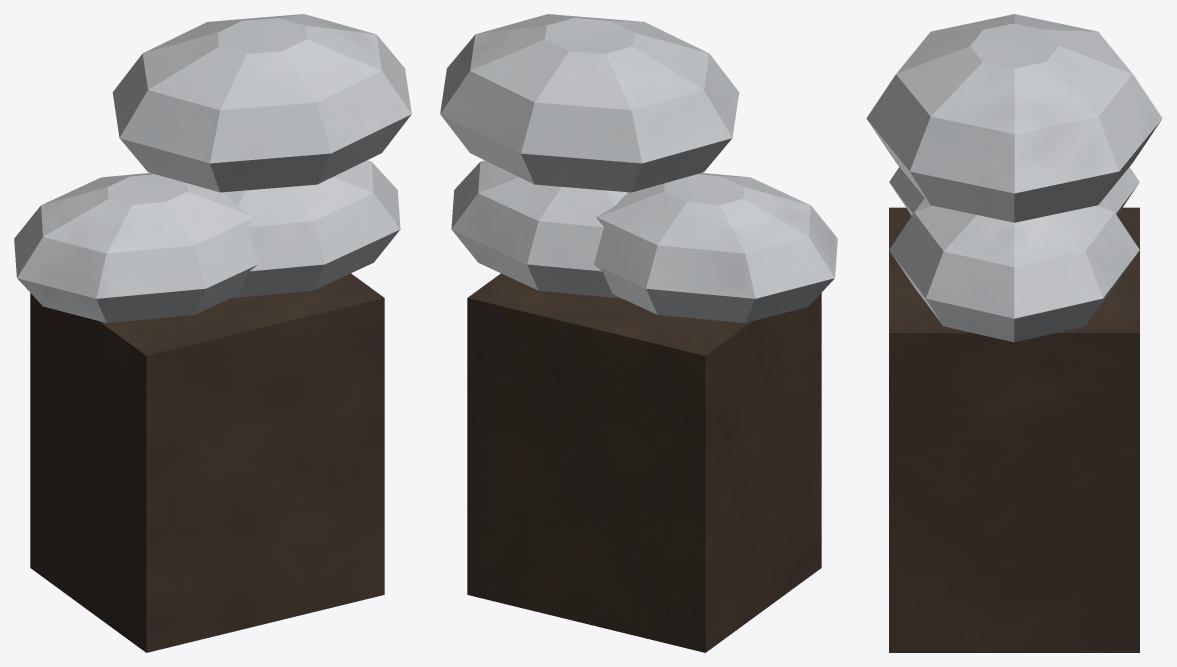
File: 트로피_하늘1.fbx
3 renders of one model, left to right at view 1: azimuth 30°, elevation 25°; view 2: azimuth 150°, elevation 25°; view 3: azimuth 270°, elevation 25°, orthographic. The views are drawn at different scales.
Visible parts, largest first — view 1: 트로피_하늘1; view 2: 트로피_하늘1; view 3: 트로피_하늘1.
Boxes of the visible parts, x1,y1,x2,y2 form: 트로피_하늘1: (14, 14, 411, 652); 트로피_하늘1: (440, 14, 837, 652); 트로피_하늘1: (866, 14, 1162, 652).
Bounding box in the file's own units: 84.8 × 111 × 52.
2 materials, 2 textured.
